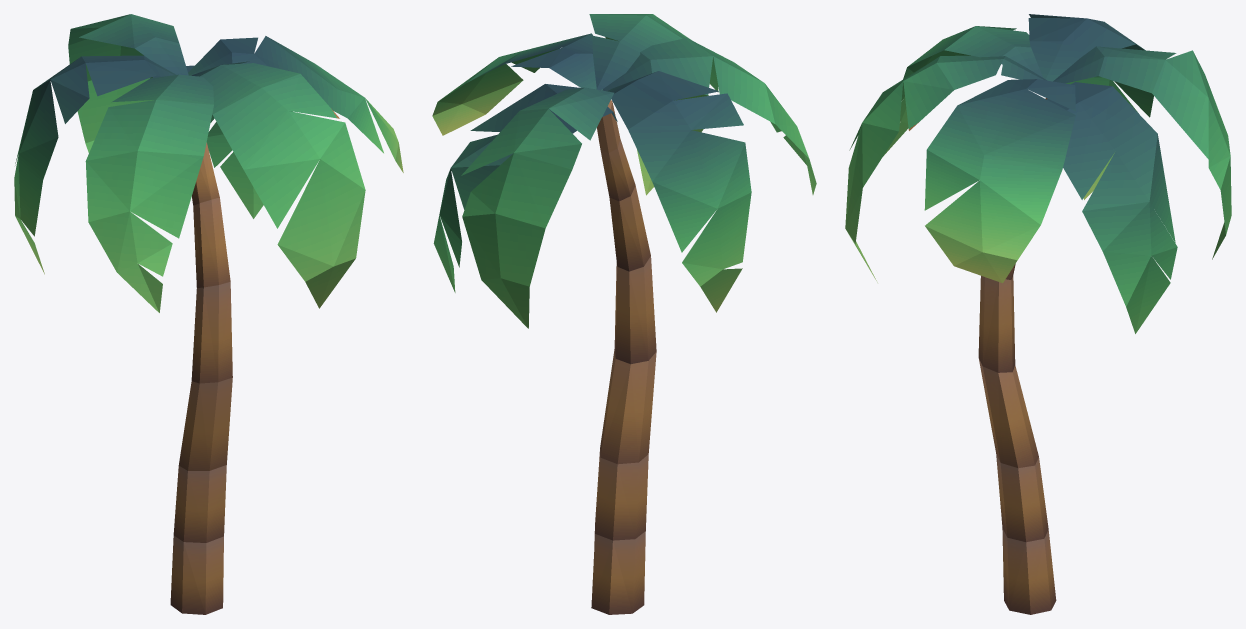
Rendered from palmierTextFinal.FBX.
3 views of the same model, side by side, from view 1: azimuth 30°, elevation 25°; view 2: azimuth 150°, elevation 25°; view 3: azimuth 270°, elevation 25° (orthographic).
Parts seen in each view (by area): view 1: palmier_Sphere007; view 2: palmier_Sphere007; view 3: palmier_Sphere007.
Part boxes in pixels (x1=…): palmier_Sphere007: x1=14, y1=14, x2=403, y2=614; palmier_Sphere007: x1=432, y1=14, x2=816, y2=614; palmier_Sphere007: x1=845, y1=14, x2=1231, y2=614.
Bounding box in the file's own units: 100 × 154 × 97.94.
